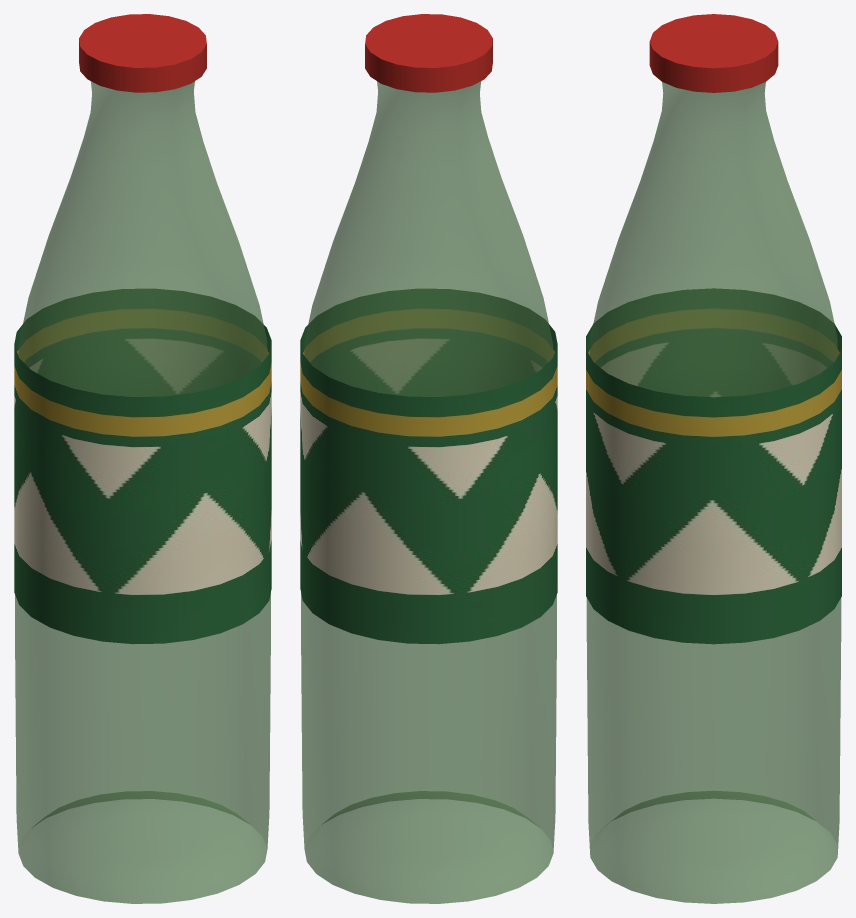
Rendered from bottle_beer_lager_green.glb.
The picture shows the model from 3 angles, left to right: view 1: azimuth 30°, elevation 25°; view 2: azimuth 150°, elevation 25°; view 3: azimuth 270°, elevation 25°; orthographic projection.
Parts seen in each view (by area): view 1: bottle_beer_lager_green; view 2: bottle_beer_lager_green; view 3: bottle_beer_lager_green.
Boxes of the visible parts, box(x1,y1,x2,y2) form: bottle_beer_lager_green: box(14, 14, 271, 903); bottle_beer_lager_green: box(300, 14, 557, 903); bottle_beer_lager_green: box(586, 14, 841, 903).
Size of the model in its own units: 0.0662 by 0.2296 by 0.0657.
3 materials, 1 textured.
